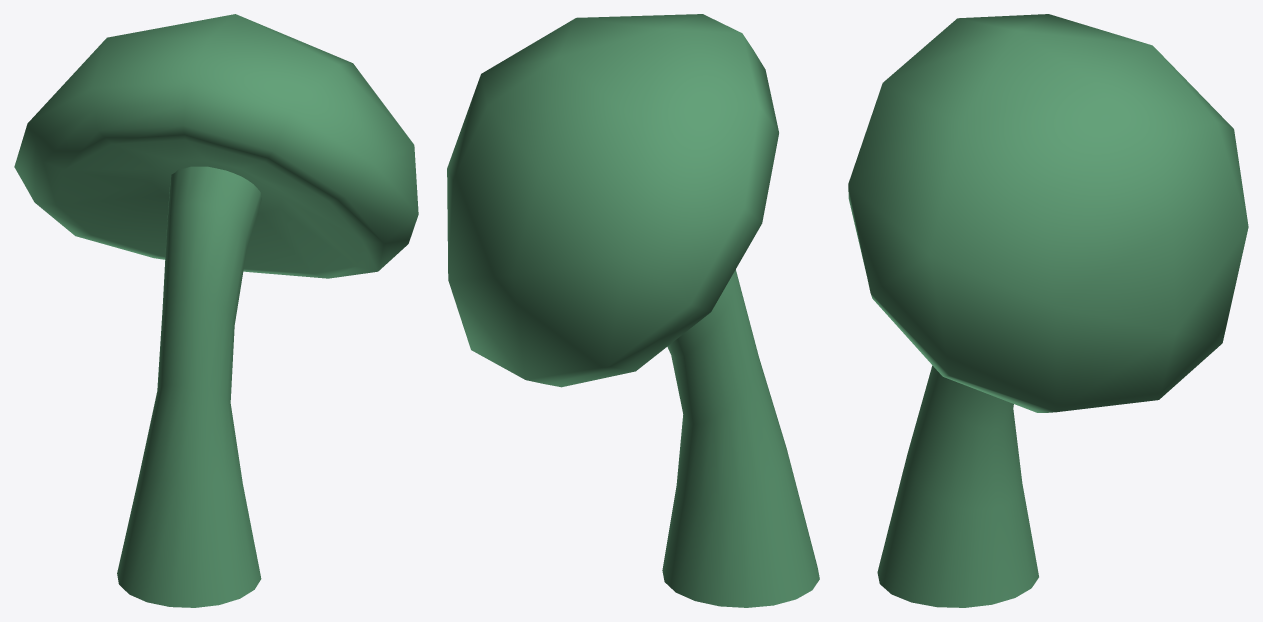
Rendered from Mushroom03.fbx.
3 views of the same model, side by side, from view 1: azimuth 30°, elevation 25°; view 2: azimuth 150°, elevation 25°; view 3: azimuth 270°, elevation 25° (orthographic). The views are drawn at different scales.
Visible parts, largest first — view 1: Mushroom_3_LOD0; view 2: Mushroom_3_LOD0; view 3: Mushroom_3_LOD0.
Boxes of the visible parts, x1,y1,x2,y2 form: Mushroom_3_LOD0: [14, 14, 418, 607]; Mushroom_3_LOD0: [447, 14, 819, 607]; Mushroom_3_LOD0: [848, 14, 1248, 607].
Size of what is drawn, in the model's own units: 35.72 by 56.29 by 35.82.
